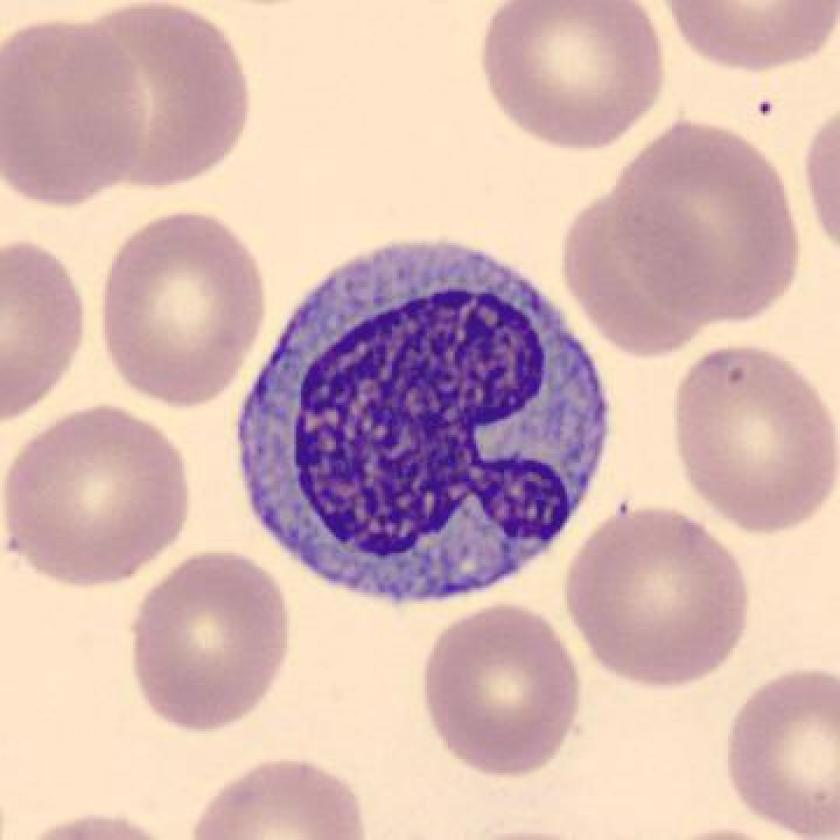monocyte: (218, 221, 633, 621)
